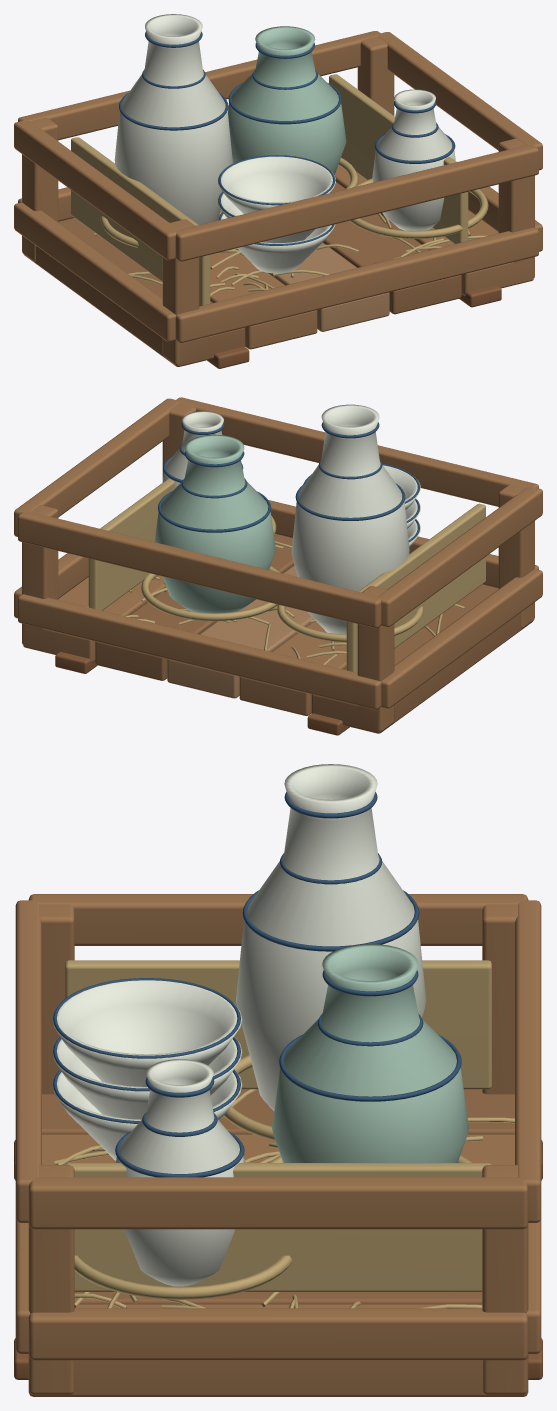
Rendered from porcelain.glb.
3 views of the same model, one above another, from view 1: azimuth 30°, elevation 25°; view 2: azimuth 150°, elevation 25°; view 3: azimuth 270°, elevation 25° (orthographic). The views are drawn at different scales.
Parts seen in each view (by area): view 1: Cargo_porcelain; view 2: Cargo_porcelain; view 3: Cargo_porcelain.
Part boxes in pixels (left/top/right/bottom): Cargo_porcelain: left=14, top=14, right=542, bottom=368; Cargo_porcelain: left=14, top=397, right=542, bottom=735; Cargo_porcelain: left=14, top=764, right=542, bottom=1396.
Bounding box in the file's own units: 1.06 × 0.6995 × 0.805.
